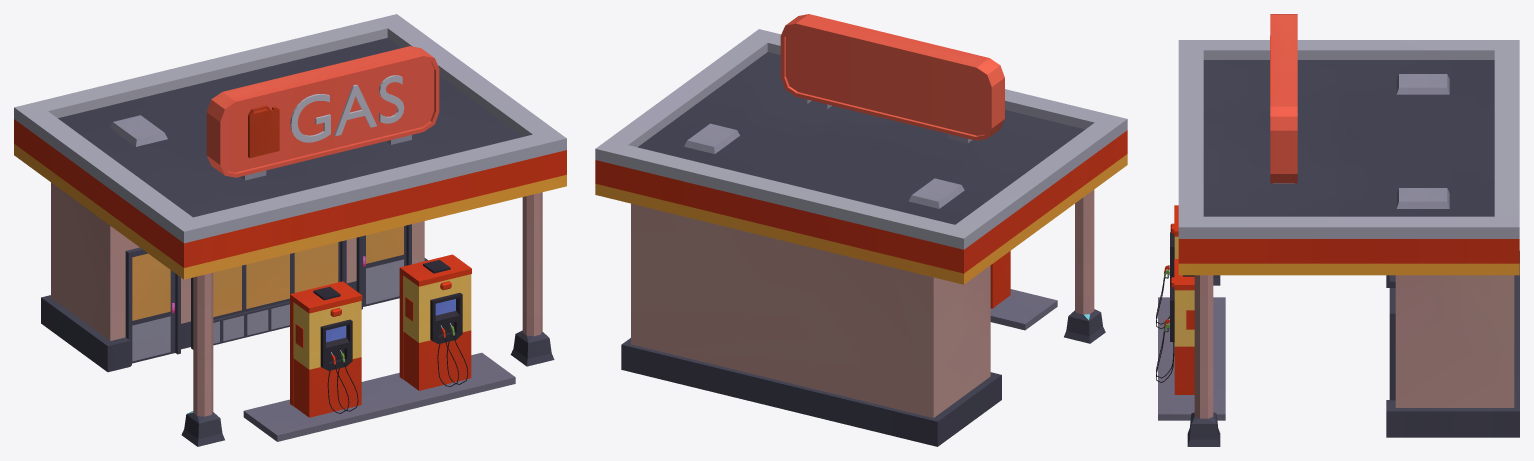
Rendered from gas-lowpoly.glb.
3 renders of one model, left to right at view 1: azimuth 30°, elevation 25°; view 2: azimuth 150°, elevation 25°; view 3: azimuth 270°, elevation 25°, orthographic. The views are drawn at different scales.
Size of the model in its own units: 1 by 0.7403 by 0.8209.
1 material, 1 textured.
